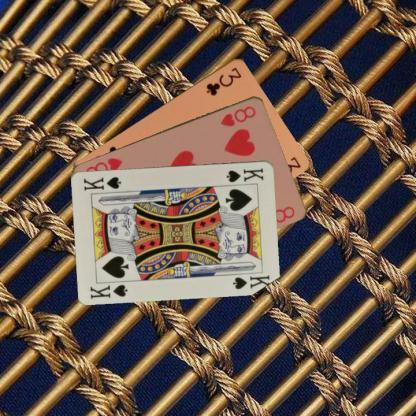3c: (204, 64, 244, 97)
8h: (218, 103, 258, 128)
Ks: (88, 281, 130, 300), (223, 165, 266, 183)
